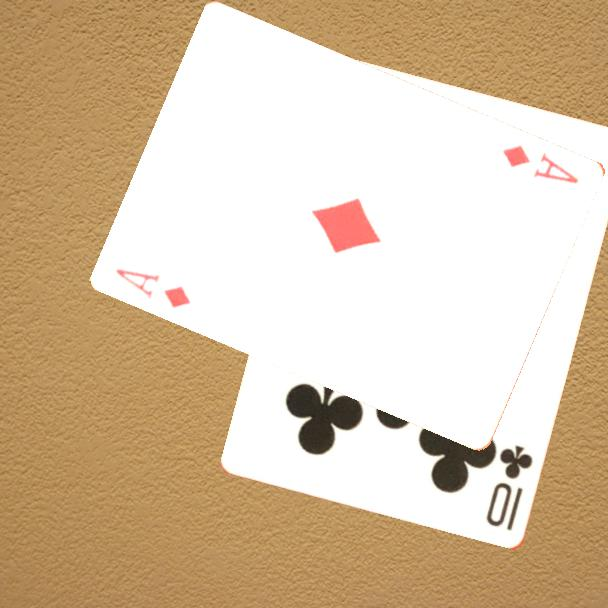c10: (482, 442, 536, 535)
d01: (113, 264, 194, 311), (500, 141, 582, 187)
